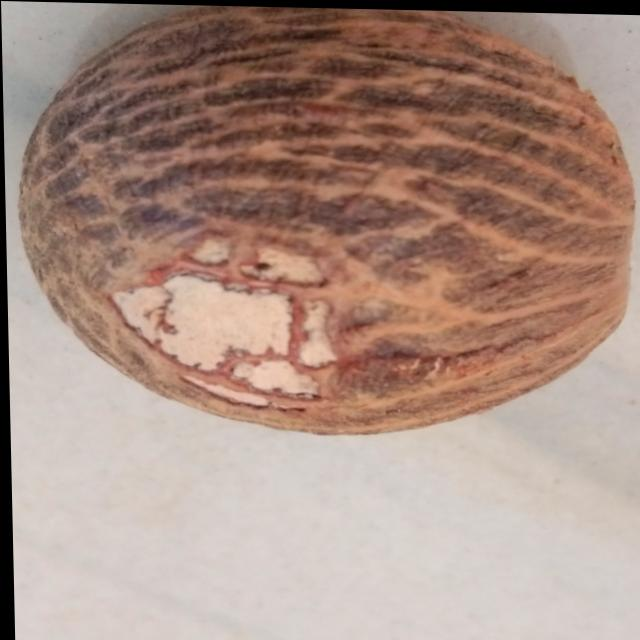phatora: (0, 0, 640, 445)
